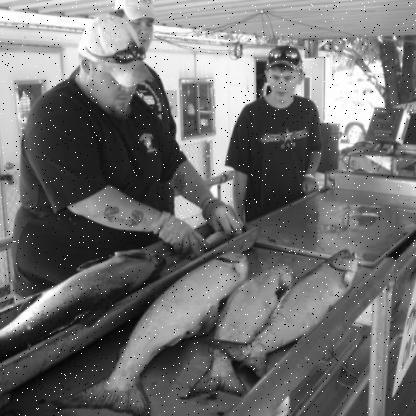fish: (57, 238, 247, 413), (214, 242, 358, 378), (0, 242, 165, 360), (185, 260, 291, 400)
